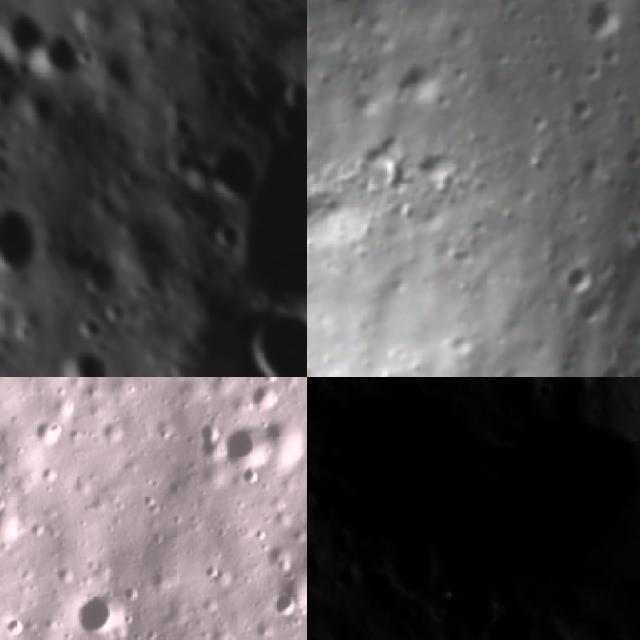crater: (222, 274, 307, 377), (217, 34, 307, 125), (189, 126, 275, 214), (0, 194, 63, 291), (27, 24, 98, 96), (64, 238, 134, 308), (385, 534, 451, 603), (452, 570, 511, 640), (213, 418, 270, 480), (198, 211, 257, 269), (389, 51, 448, 108), (64, 589, 124, 640), (0, 2, 50, 62), (259, 410, 307, 471), (573, 0, 633, 47), (550, 252, 602, 303), (54, 341, 120, 377), (65, 310, 108, 353), (91, 295, 130, 335), (265, 584, 304, 624), (0, 502, 28, 553), (29, 416, 66, 452), (325, 526, 362, 560), (562, 377, 604, 405), (246, 377, 283, 407), (590, 355, 629, 377), (615, 136, 640, 170), (416, 377, 451, 400), (307, 487, 325, 524), (625, 601, 640, 640), (622, 355, 640, 377)
